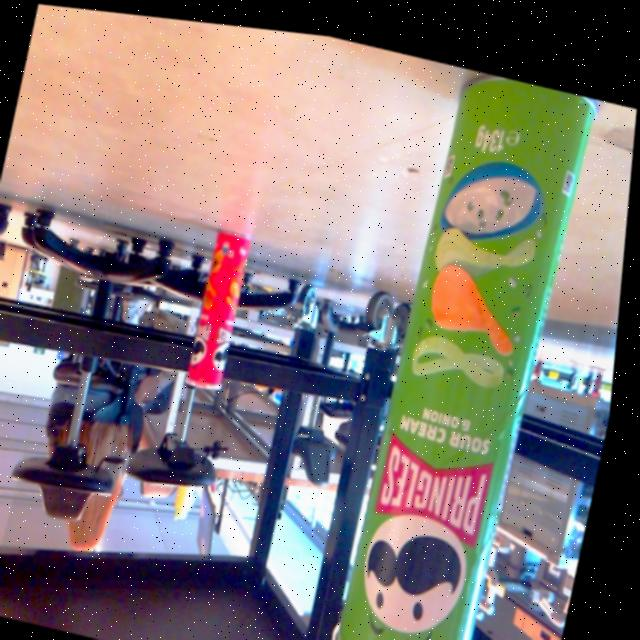greenpringles: (323, 45, 610, 640)
redpringles: (174, 214, 268, 395)
